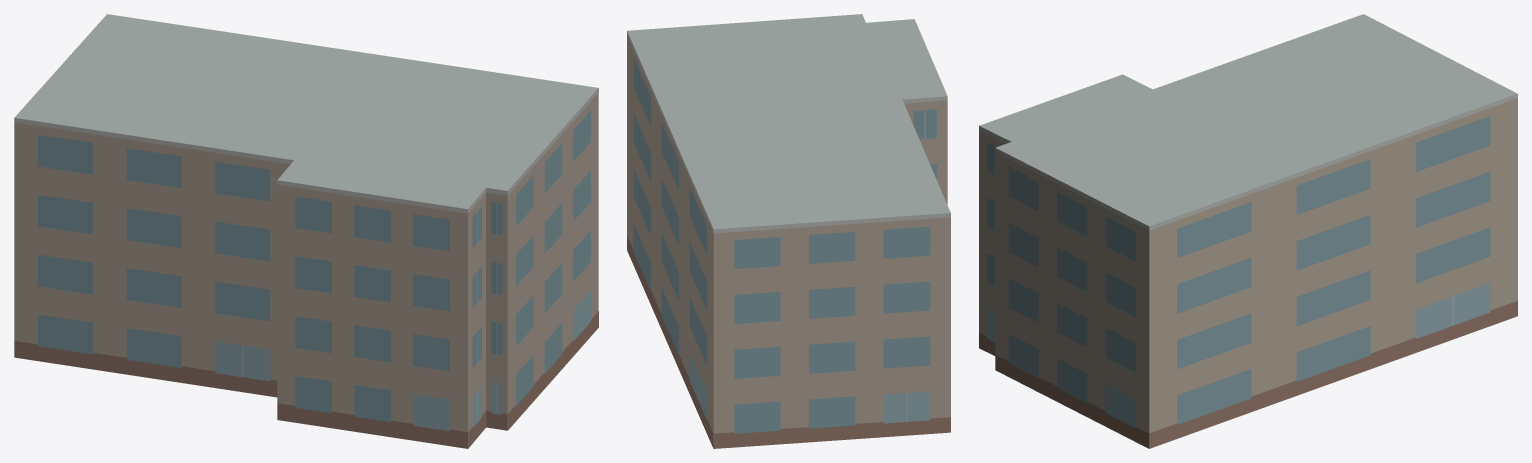
The model's file is survey-upis-32781327.glb.
The picture shows the model from 3 angles, left to right: view 1: azimuth 30°, elevation 25°; view 2: azimuth 150°, elevation 25°; view 3: azimuth 270°, elevation 25°; orthographic projection. The views are drawn at different scales.
Parts seen in each view (by area): view 1: survey-upis-32781327.tmp; view 2: survey-upis-32781327.tmp; view 3: survey-upis-32781327.tmp.
Part boxes in pixels (x1,y1,x2,y2): survey-upis-32781327.tmp: (14, 14, 598, 448); survey-upis-32781327.tmp: (627, 14, 950, 448); survey-upis-32781327.tmp: (979, 14, 1517, 448).
Size of the model in its own units: 26.22 by 12.8 by 28.1.
